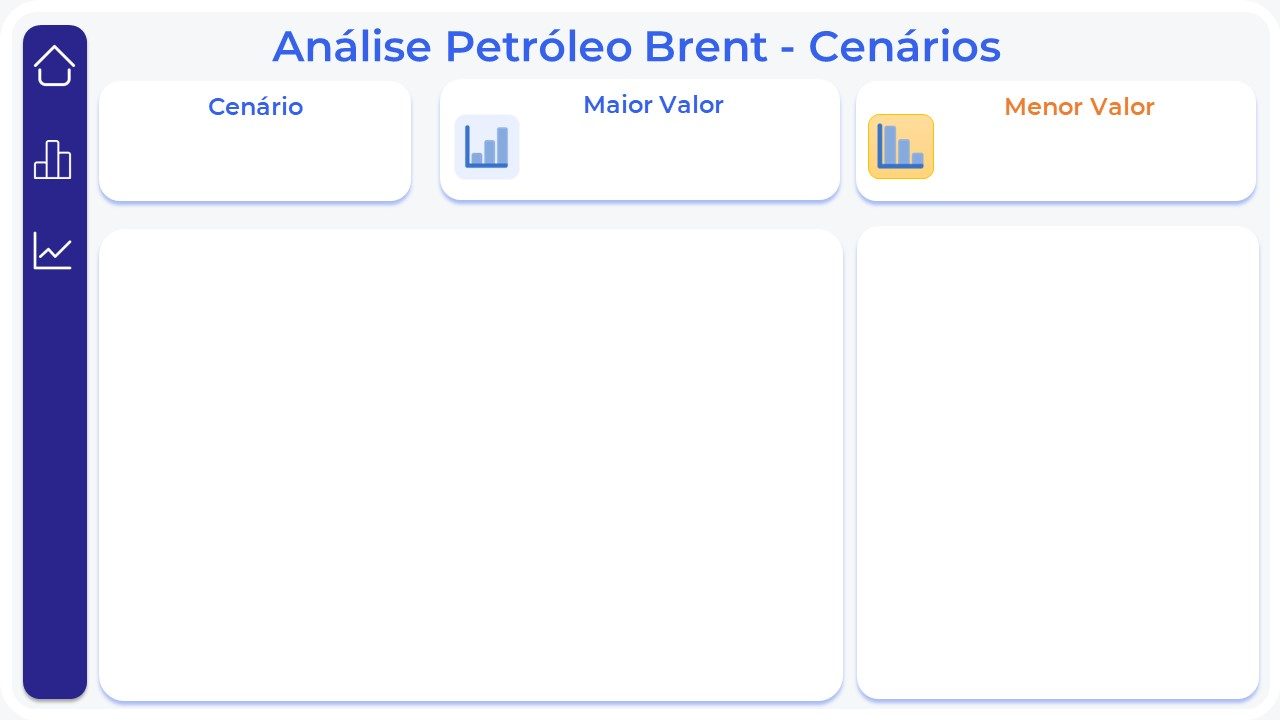

Layout of this report page (visuals, bound fields, positions):
{"tool":"powerbi","page":{"name":"Cenários","canvas":[1280,720],"ordinal":2},"visuals":[{"type":"lineChart","title":"Análise ao Longo do Tempo","fields":{"Category":["petroleo_brent.Data.Variation.Date Hierarchy.Year","petroleo_brent.Data.Variation.Date Hierarchy.Month","petroleo_brent.Data.Variation.Date Hierarchy.Day"],"Y":["Sum(petroleo_brent.Preco)"]},"box":[113,239,711,442],"z":0},{"type":"pivotTable","title":"Análise Detalhada","fields":{"Rows":["petroleo_brent.Data.Variation.Date Hierarchy.Year","petroleo_brent.Data.Variation.Date Hierarchy.Month","petroleo_brent.Data.Variation.Date Hierarchy.Day"],"Values":["Sum(petroleo_brent.Preco)"]},"box":[872,239,375,453],"z":1000},{"type":"card","fields":{"Values":["petroleo_brent.MaiorValor"]},"box":[521,98,267,98],"z":2000},{"type":"card","fields":{"Values":["petroleo_brent.MenorValor"]},"box":[925,110,306,86],"z":3000},{"type":"actionButton","box":[26,40,60,50],"z":4000},{"type":"slicer","fields":{"Values":["petroleo_brent.Cenario"]},"box":[100,126,311,53],"z":5000},{"type":"actionButton","box":[26,136,60,51],"z":6000}]}

Visuals, with their boxes in screenshot pixels (x1, y1, x2, y2), scaled from the page's 1280x720 canvas onto the 1280x720 screenshot:
"Análise ao Longo do Tempo" lineChart: (x1=113, y1=239, x2=824, y2=681)
"Análise Detalhada" pivotTable: (x1=872, y1=239, x2=1247, y2=692)
card - petroleo_brent.MaiorValor: (x1=521, y1=98, x2=788, y2=196)
card - petroleo_brent.MenorValor: (x1=925, y1=110, x2=1231, y2=196)
actionButton: (x1=26, y1=40, x2=86, y2=90)
slicer - petroleo_brent.Cenario: (x1=100, y1=126, x2=411, y2=179)
actionButton: (x1=26, y1=136, x2=86, y2=187)
